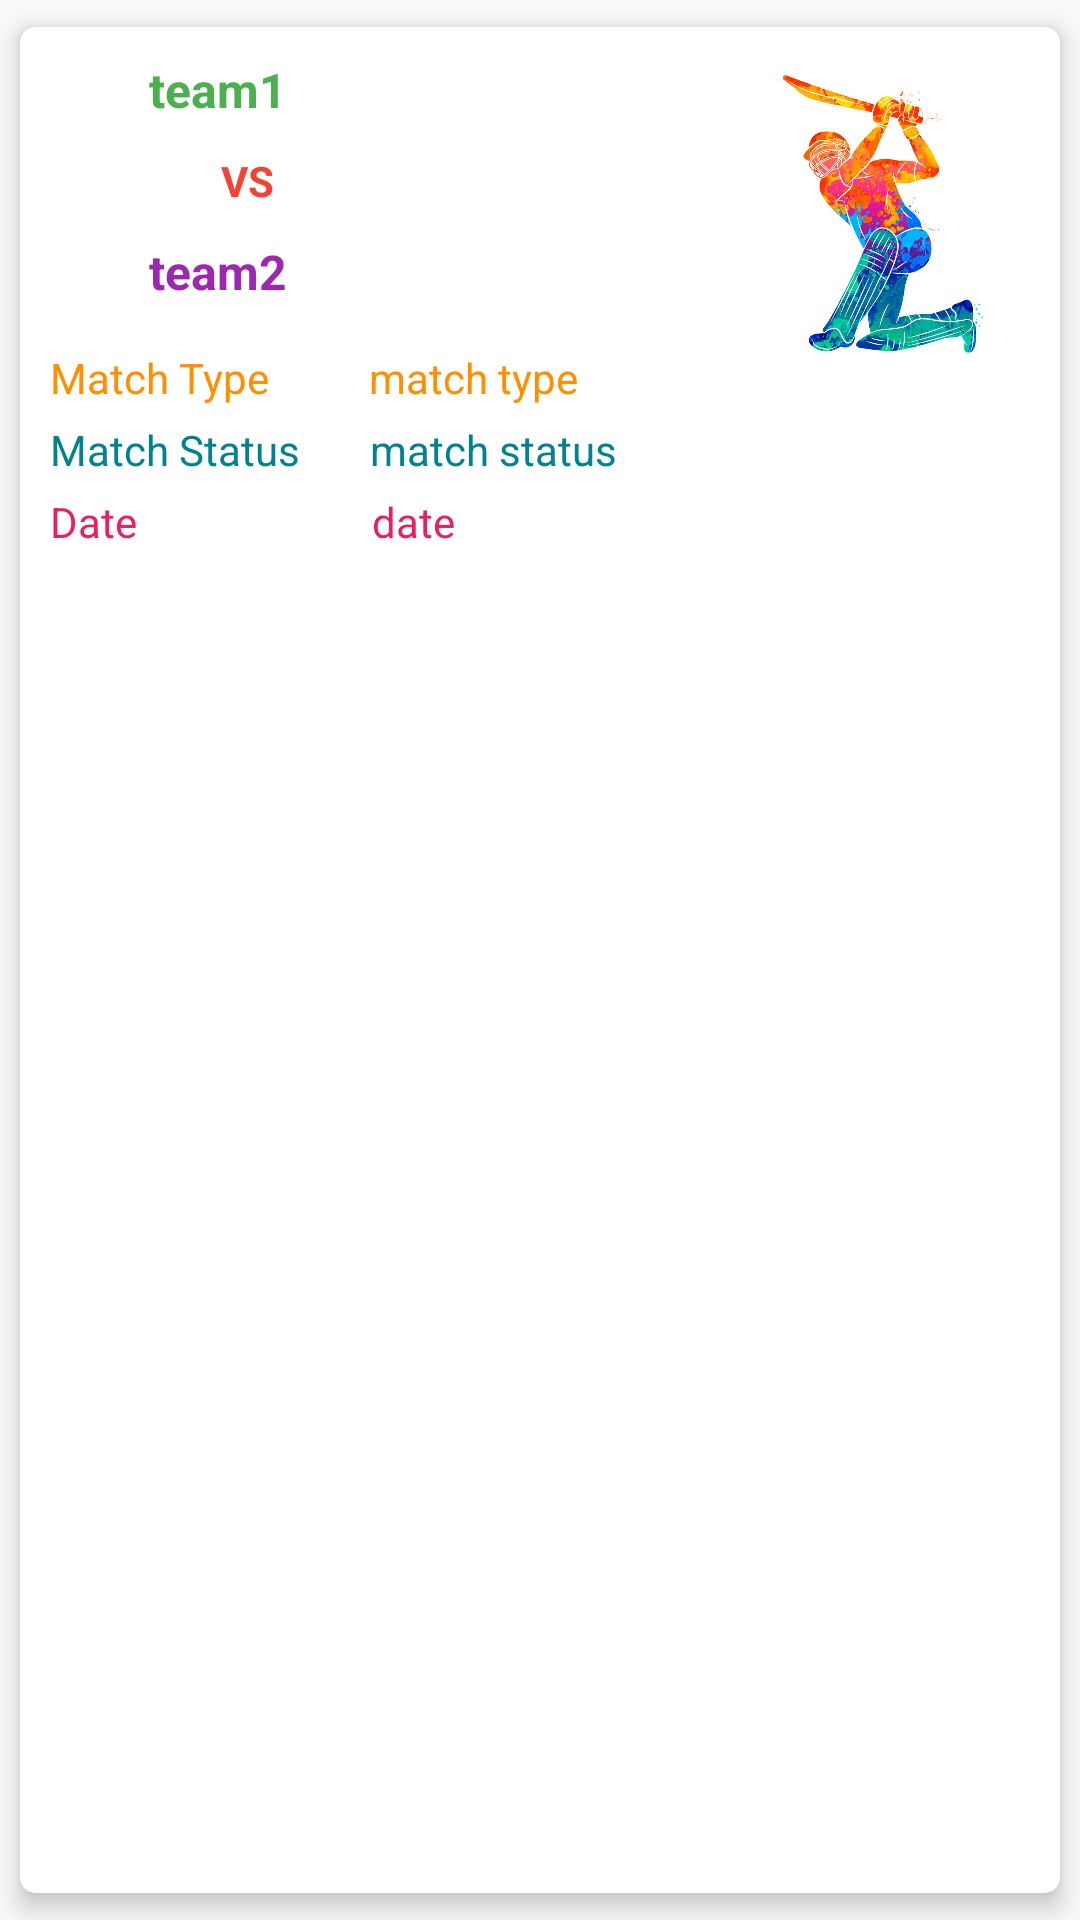

Point at icon controls on the screen. Image size 1080 × 1920, points as (x=x, y=y).
batsman: (x=883, y=214)
